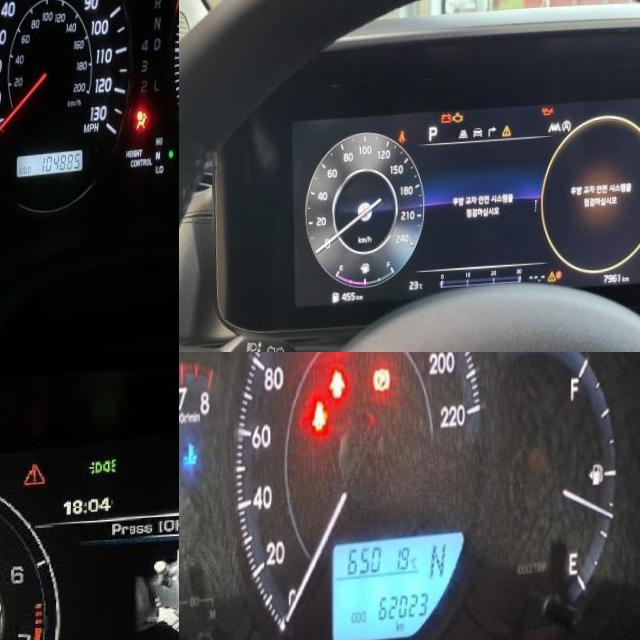Central Warning lamp: (503, 128, 513, 141)
Seat Belt: (312, 401, 331, 434)
